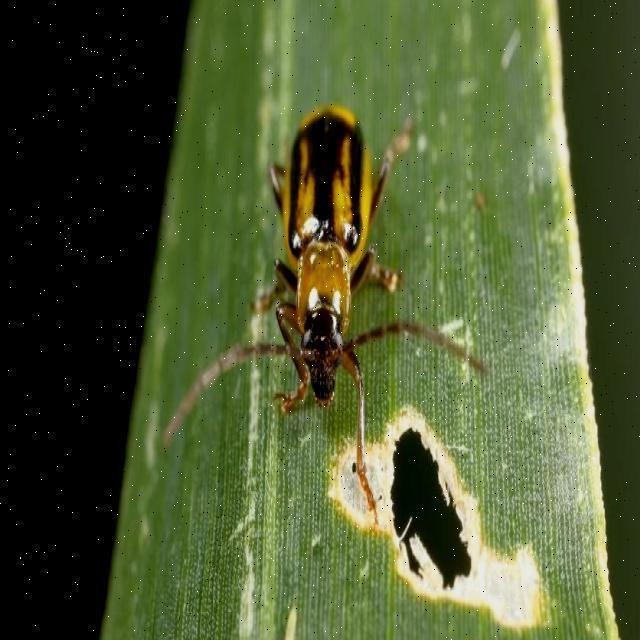trips: (237, 104, 487, 530)
